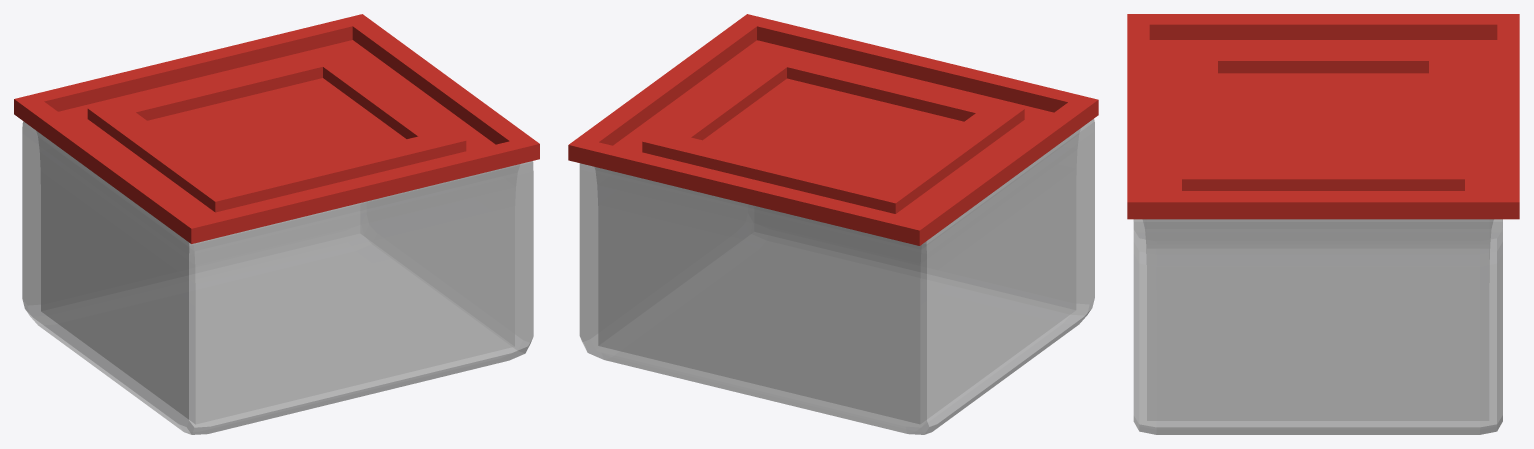
Rendered from SmallFoodStorage3.fbx.
3 renders of one model, left to right at view 1: azimuth 30°, elevation 25°; view 2: azimuth 150°, elevation 25°; view 3: azimuth 270°, elevation 25°, orthographic. The views are drawn at different scales.
Parts seen in each view (by area): view 1: Cube, Cube.001; view 2: Cube, Cube.001; view 3: Cube.001, Cube.
Boxes of the visible parts, left/top/right/bottom form: Cube: left=22, top=121, right=533, bottom=434; Cube.001: left=14, top=14, right=539, bottom=243; Cube: left=579, top=119, right=1094, bottom=434; Cube.001: left=568, top=14, right=1098, bottom=245; Cube.001: left=1127, top=14, right=1519, bottom=219; Cube: left=1133, top=219, right=1502, bottom=434.
Bounding box in the file's own units: 72.89 × 43.55 × 64.26.
